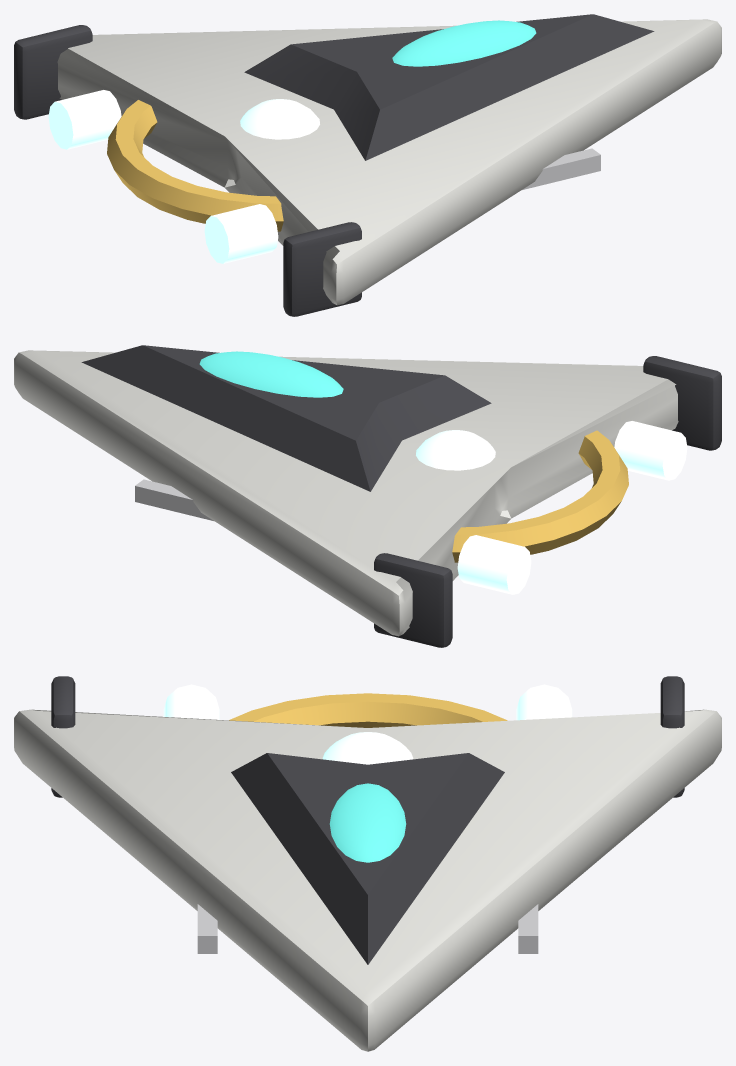
Rendered from rob_fighter.glb.
3 renders of one model, top to bottom at view 1: azimuth 30°, elevation 25°; view 2: azimuth 150°, elevation 25°; view 3: azimuth 270°, elevation 25°, orthographic. The views are drawn at different scales.
Parts seen in each view (by area): view 1: rob_fighter; view 2: rob_fighter; view 3: rob_fighter.
Boxes of the visible parts, <box> form: rob_fighter: <box>14,14,721,316</box>; rob_fighter: <box>14,345,721,647</box>; rob_fighter: <box>14,676,721,1051</box>.
Size of the model in its own units: 0.9645 by 0.185 by 0.8833.
